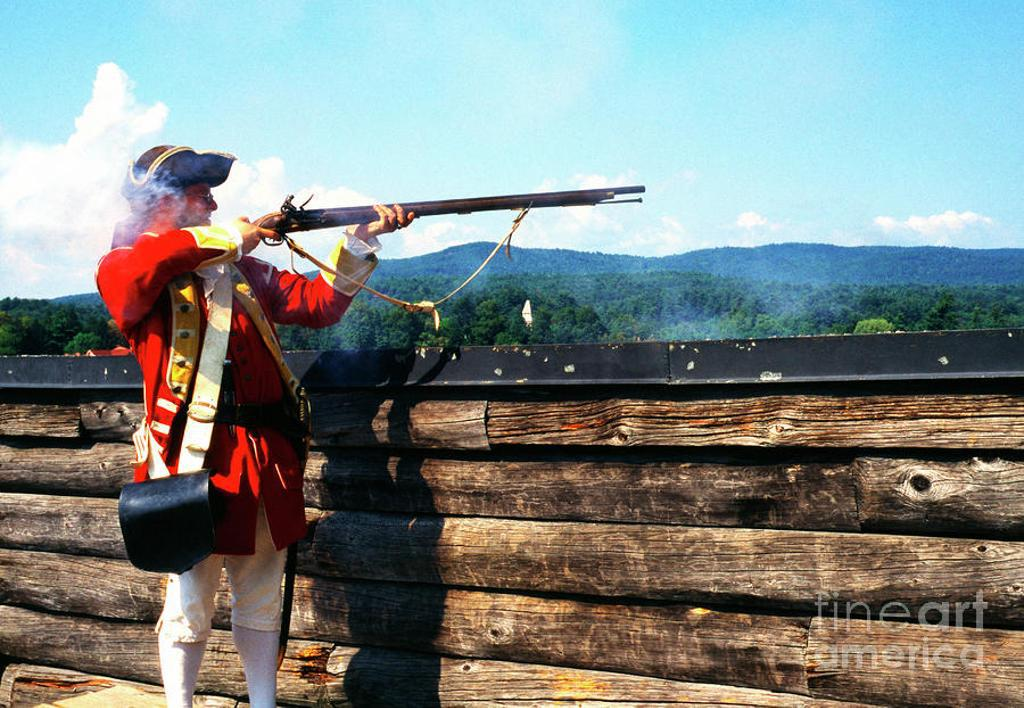face: (169, 165, 221, 229)
